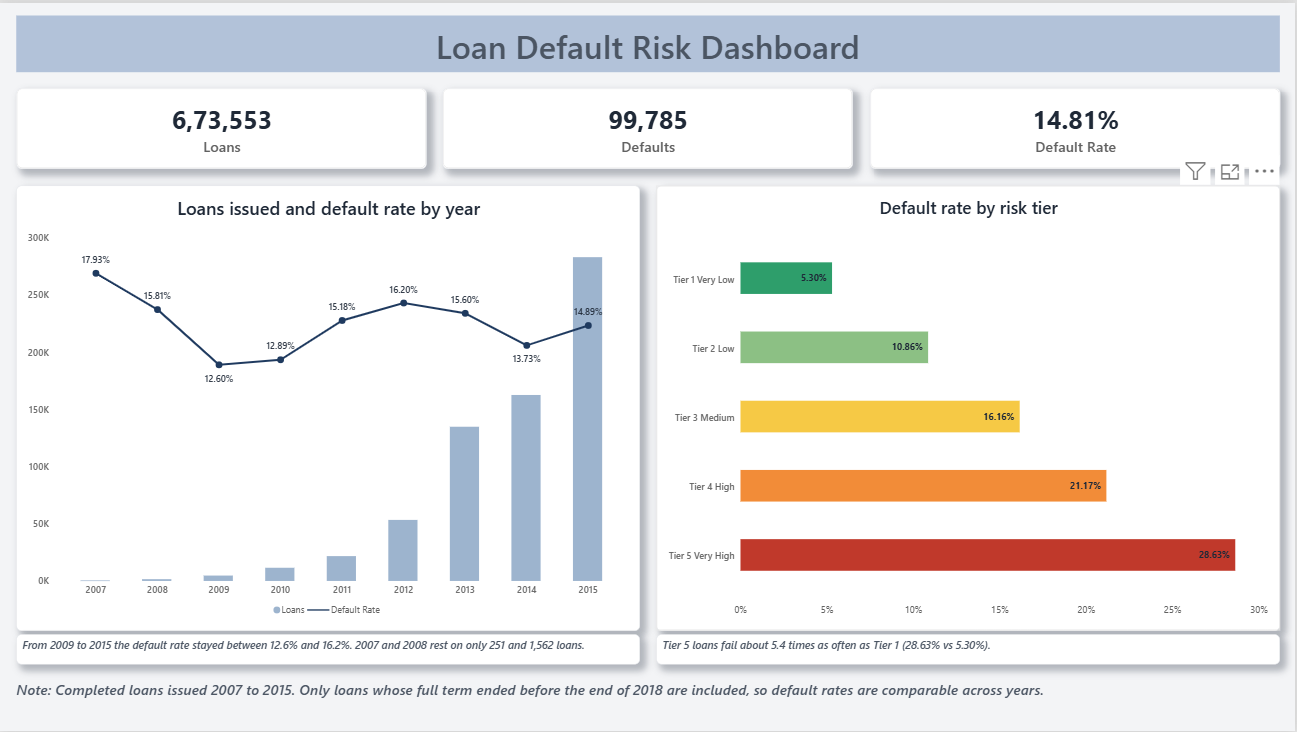

This screenshot's page, from the dashboard's own definition file:
{"tool":"powerbi","page":{"name":"Overview","canvas":[1920,1080],"ordinal":0},"visuals":[{"type":"cardVisual","fields":{"Data":["loans_dashboard.Loans"]},"box":[24,126,608,120],"z":0},{"type":"cardVisual","fields":{"Data":["loans_dashboard.Defaults"]},"box":[656,126,608,120],"z":1000},{"type":"cardVisual","fields":{"Data":["loans_dashboard.Default Rate"]},"box":[1288,126,608,120],"z":2000},{"type":"lineClusteredColumnComboChart","title":"Loans issued and default rate by year","fields":{"Category":["loans_dashboard.issue_year"],"Y":["loans_dashboard.Loans"],"Y2":["loans_dashboard.Default Rate"]},"box":[24,270,924,660],"z":3000},{"type":"textbox","box":[24,18,1872,84],"z":4000},{"type":"textbox","box":[24,996,1872,60],"z":5000},{"type":"clusteredBarChart","title":"Default rate by risk tier","fields":{"Category":["loans_dashboard.risk_tier"],"Y":["loans_dashboard.Default Rate"]},"box":[972,270,924,660],"z":6000},{"type":"textbox","box":[24,936,924,45],"z":7000},{"type":"textbox","box":[972,936,924,45],"z":8000}]}

Visuals, with their boxes in screenshot pixels (x1, y1, x2, y2), scaled from the page's 1920x1080 canvas onto the 1297x732 screenshot:
cardVisual - loans_dashboard.Loans: (16, 85, 427, 167)
cardVisual - loans_dashboard.Defaults: (443, 85, 854, 167)
cardVisual - loans_dashboard.Default Rate: (870, 85, 1281, 167)
"Loans issued and default rate by year" lineClusteredColumnComboChart: (16, 183, 640, 630)
textbox: (16, 12, 1281, 69)
textbox: (16, 675, 1281, 716)
"Default rate by risk tier" clusteredBarChart: (657, 183, 1281, 630)
textbox: (16, 634, 640, 665)
textbox: (657, 634, 1281, 665)
